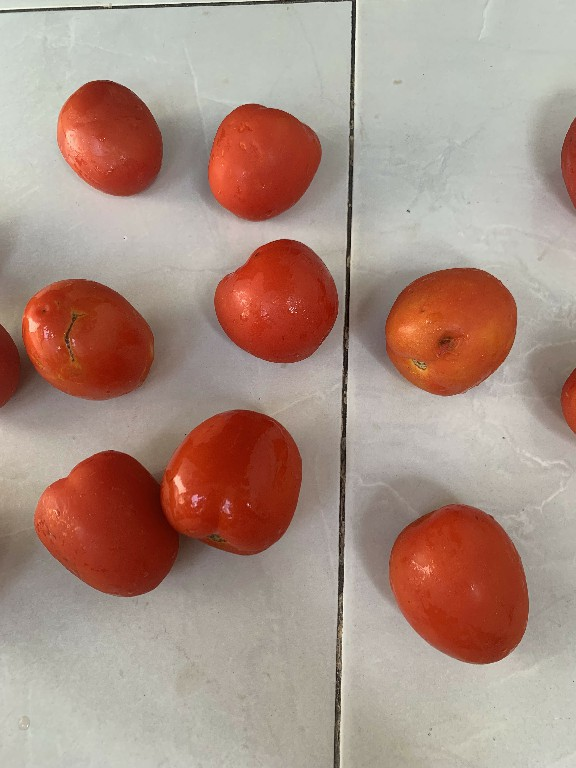NG: (372, 255, 518, 400), (18, 269, 156, 402)
OK: (384, 497, 535, 670), (26, 440, 177, 605), (161, 397, 308, 558), (211, 236, 340, 374), (45, 68, 167, 211), (200, 92, 327, 228)
